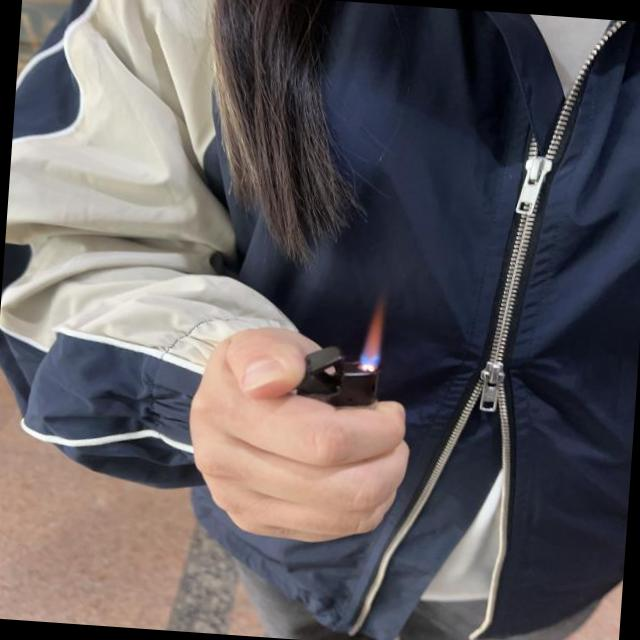Fire: (355, 300, 390, 371)
